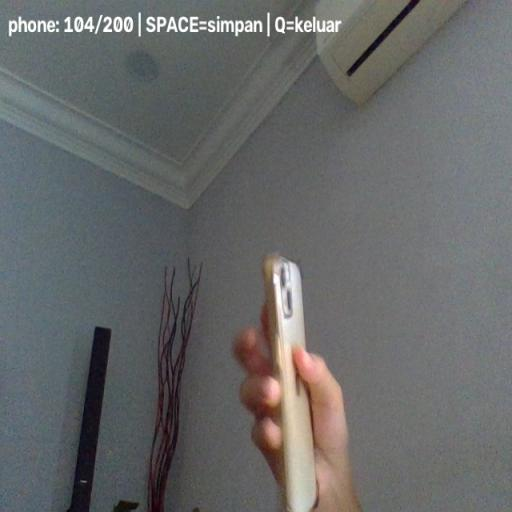Phone: (262, 254, 318, 512)
